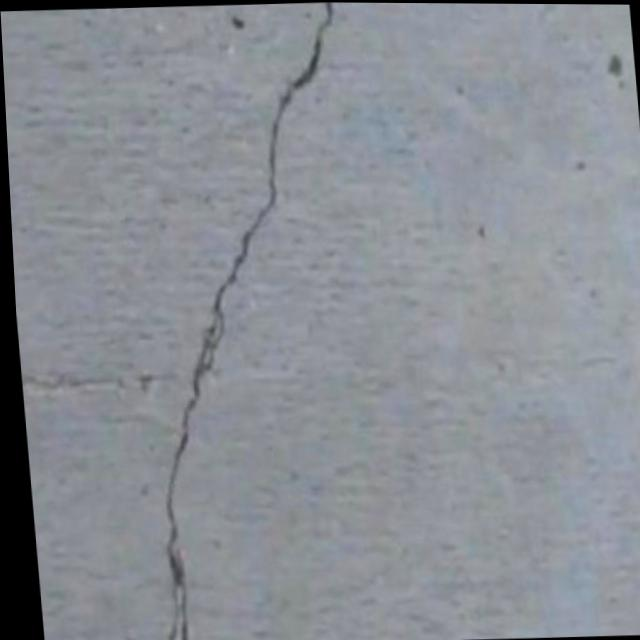Crack: (103, 1, 399, 640)
